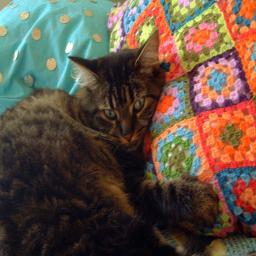catnose: (117, 128, 137, 144)
